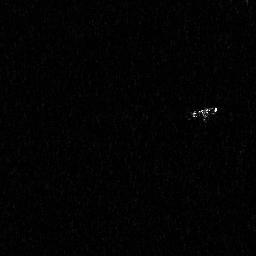ship: (187, 104, 220, 125)
